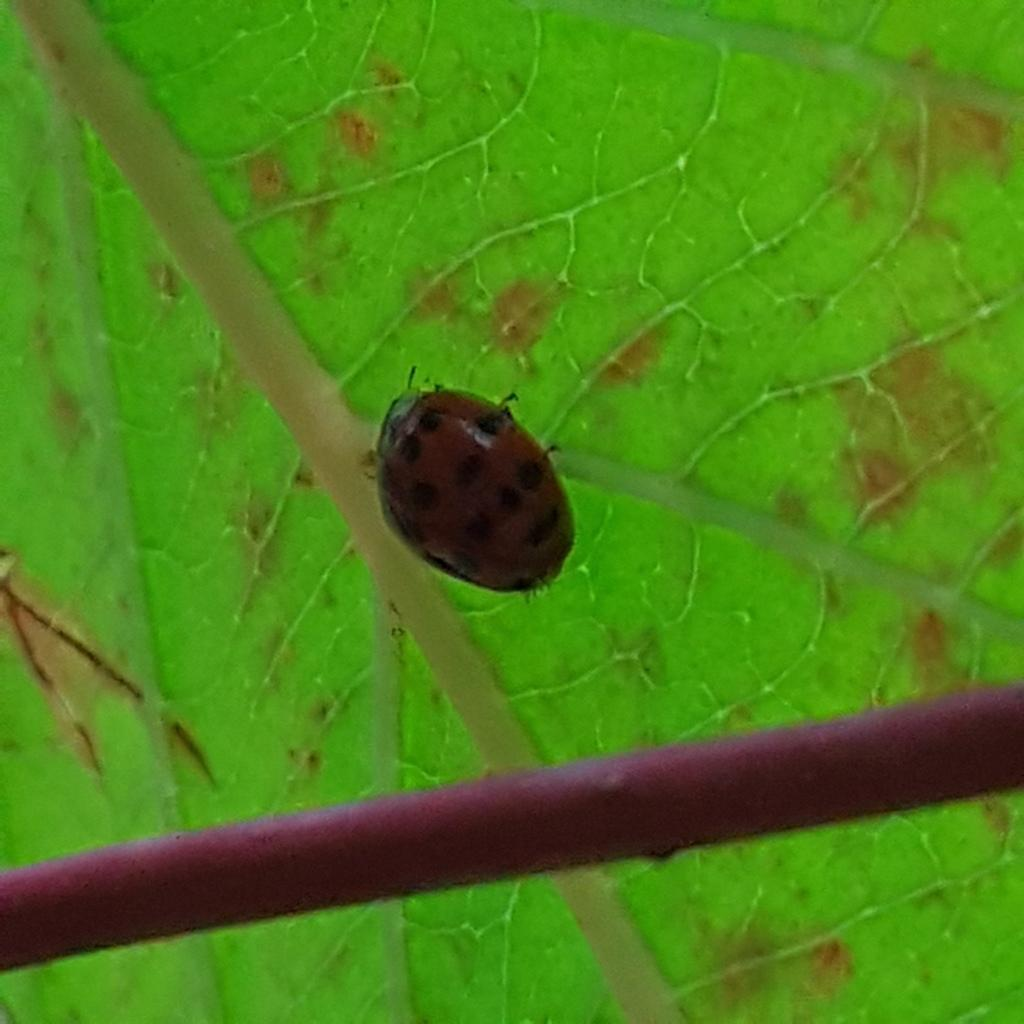ladybug: (359, 356, 584, 601)
